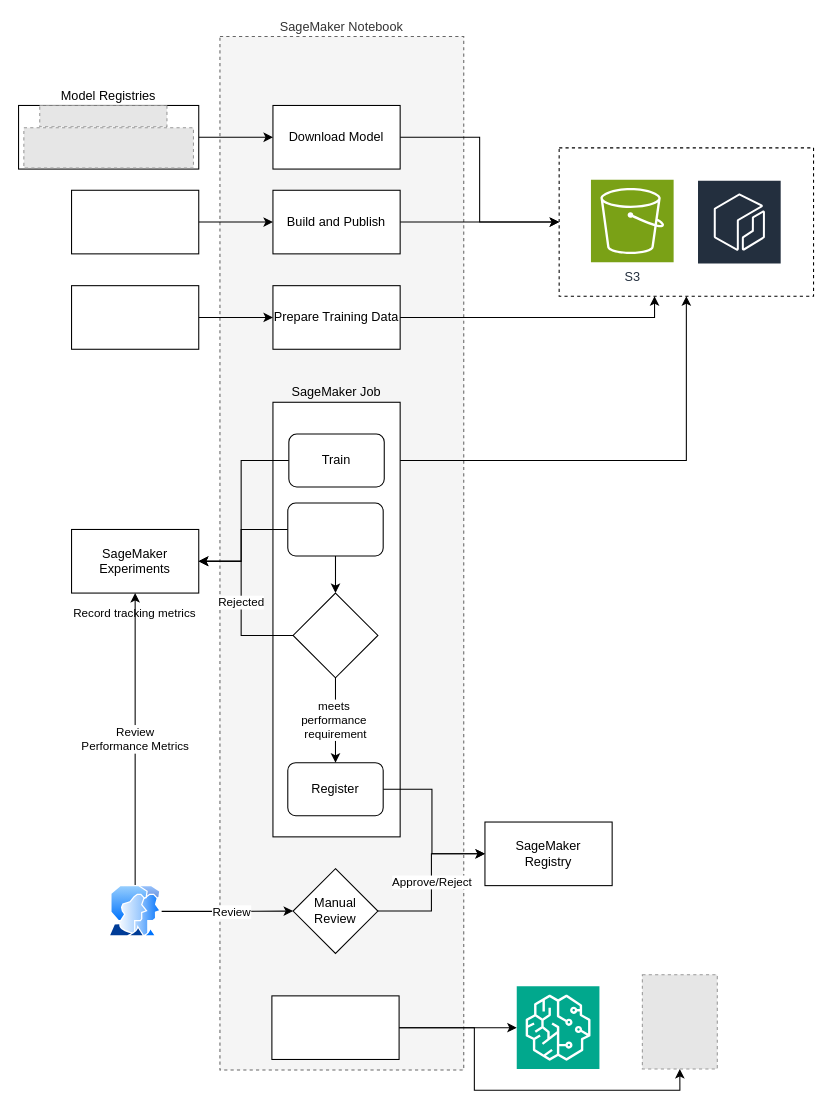
This 832x1117 diagram has some shape labels left out. Grey dashed boxes stand in for pictures. Each missing label, with the centre of its shape:
Amazon ECR: point (739, 232)
Conditional Step: point (335, 635)
Deploy: point (335, 1027)
Evaluate: point (335, 529)
GitHub: point (134, 221)
Training Data: point (134, 317)
